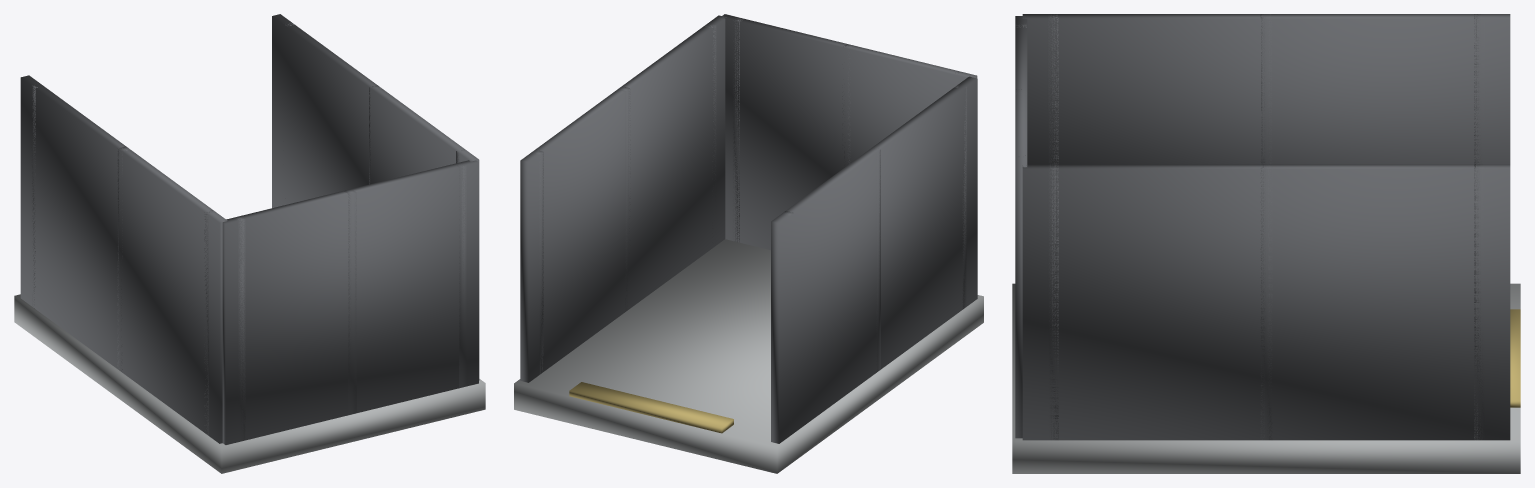
The model's file is floor_w125_d170_three.glb.
The picture shows the model from 3 angles, left to right: view 1: azimuth 30°, elevation 25°; view 2: azimuth 150°, elevation 25°; view 3: azimuth 270°, elevation 25°; orthographic projection. The views are drawn at different scales.
Parts seen in each view (by area): view 1: world; view 2: world; view 3: world.
Part boxes in pixels (x1,y1,x2,y2): world: (14, 14, 485, 473); world: (514, 14, 983, 473); world: (1012, 14, 1520, 473).
Size of the model in its own units: 1.25 by 1.12 by 1.7.
